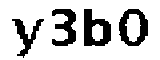0: (118, 5, 149, 48)
3: (50, 8, 78, 51)
b: (82, 6, 112, 50)
y: (10, 16, 44, 60)
